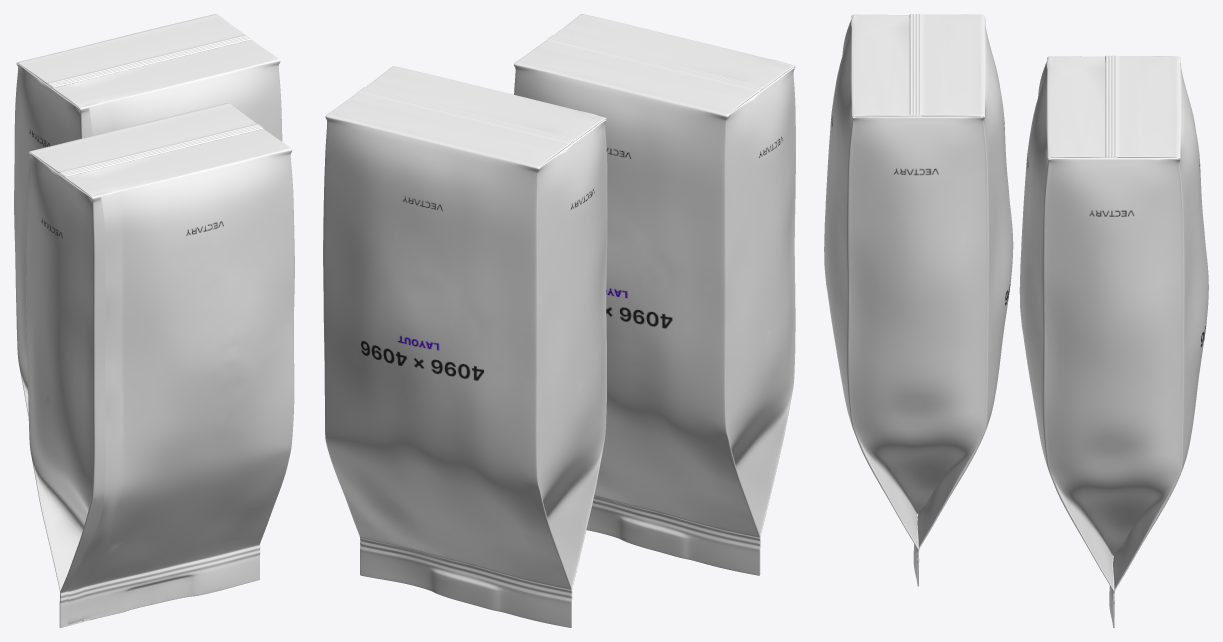
The picture shows the model from 3 angles, left to right: view 1: azimuth 30°, elevation 25°; view 2: azimuth 150°, elevation 25°; view 3: azimuth 270°, elevation 25°; orthographic projection. The views are drawn at different scales.
Parts seen in each view (by area): view 1: Bag (×2); view 2: Bag (×2); view 3: Bag (×2).
Boxes of the visible parts, bbox=[...] form: Bag (×2): bbox=[14, 14, 294, 627]; Bag (×2): bbox=[323, 14, 795, 627]; Bag (×2): bbox=[824, 14, 1208, 627].
Bounding box in the file's own units: 0.144 × 0.2016 × 0.1486.
Materials: 2 (2 with a texture image).
